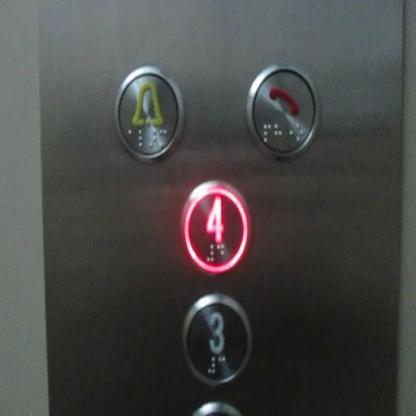3: (182, 292, 252, 386)
4: (181, 180, 248, 272)
alarm: (114, 64, 183, 162)
call: (246, 62, 320, 158)
